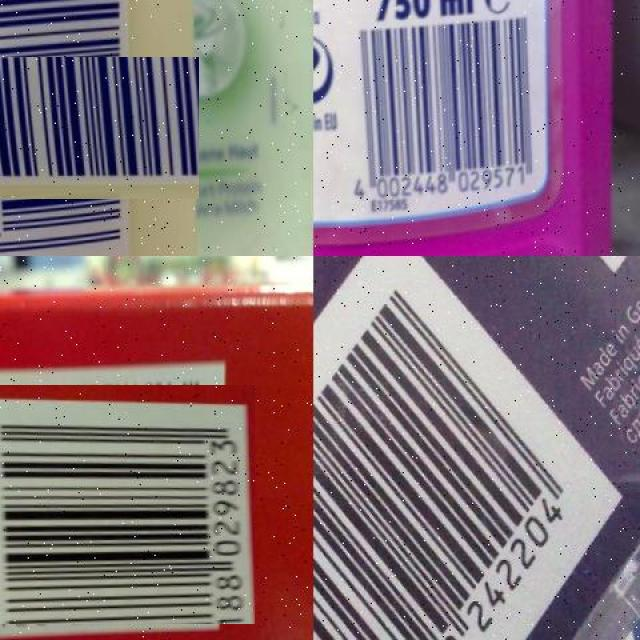Barcode: (313, 256, 631, 640), (0, 377, 247, 632), (345, 19, 547, 204), (0, 29, 171, 228)
